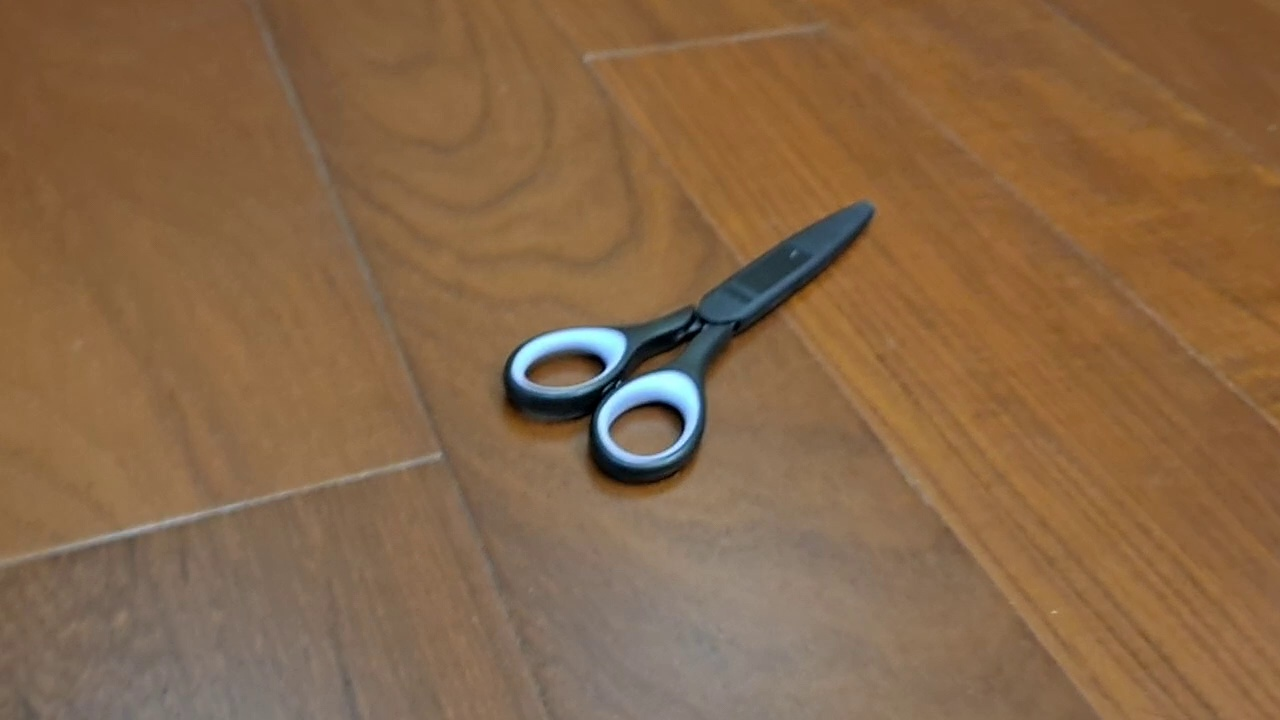scissors: (501, 196, 877, 486)
